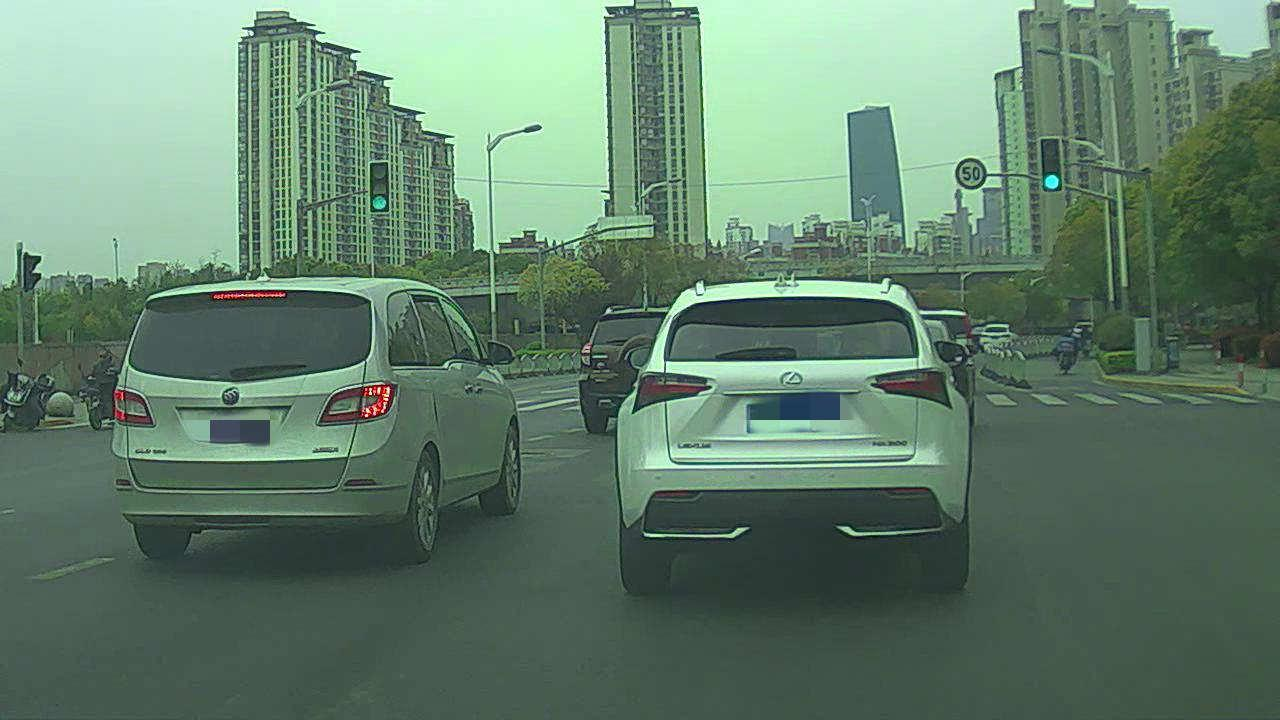traffic_light: (1039, 138, 1064, 195), (369, 158, 391, 216)
